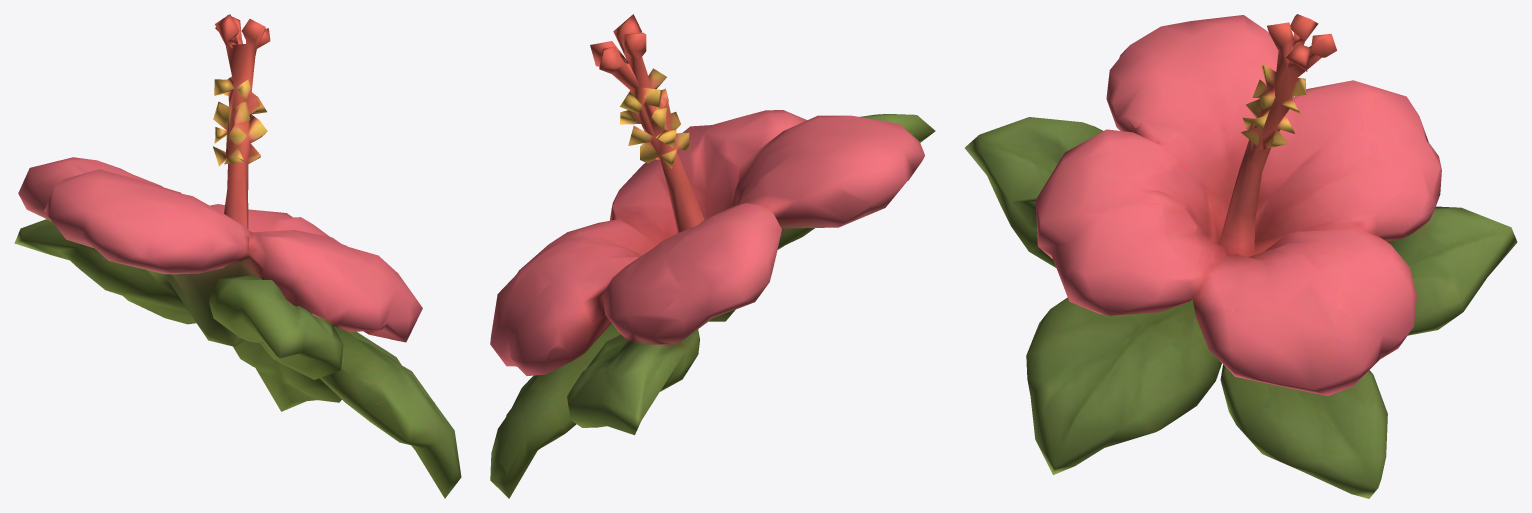
Rendered from x-flower.glb.
3 renders of one model, left to right at view 1: azimuth 30°, elevation 25°; view 2: azimuth 150°, elevation 25°; view 3: azimuth 270°, elevation 25°, orthographic. The views are drawn at different scales.
Parts seen in each view (by area): view 1: tripo_node_0ec382b5-ac78-425d-9a7c-24eb073916ae; view 2: tripo_node_0ec382b5-ac78-425d-9a7c-24eb073916ae; view 3: tripo_node_0ec382b5-ac78-425d-9a7c-24eb073916ae.
Boxes of the visible parts, box(x1,y1,x2,y2) form: tripo_node_0ec382b5-ac78-425d-9a7c-24eb073916ae: box(14, 14, 461, 498); tripo_node_0ec382b5-ac78-425d-9a7c-24eb073916ae: box(490, 14, 935, 498); tripo_node_0ec382b5-ac78-425d-9a7c-24eb073916ae: box(965, 14, 1517, 498).
Size of the model in its own units: 0.7384 by 0.8811 by 1.
1 material, 1 textured.
